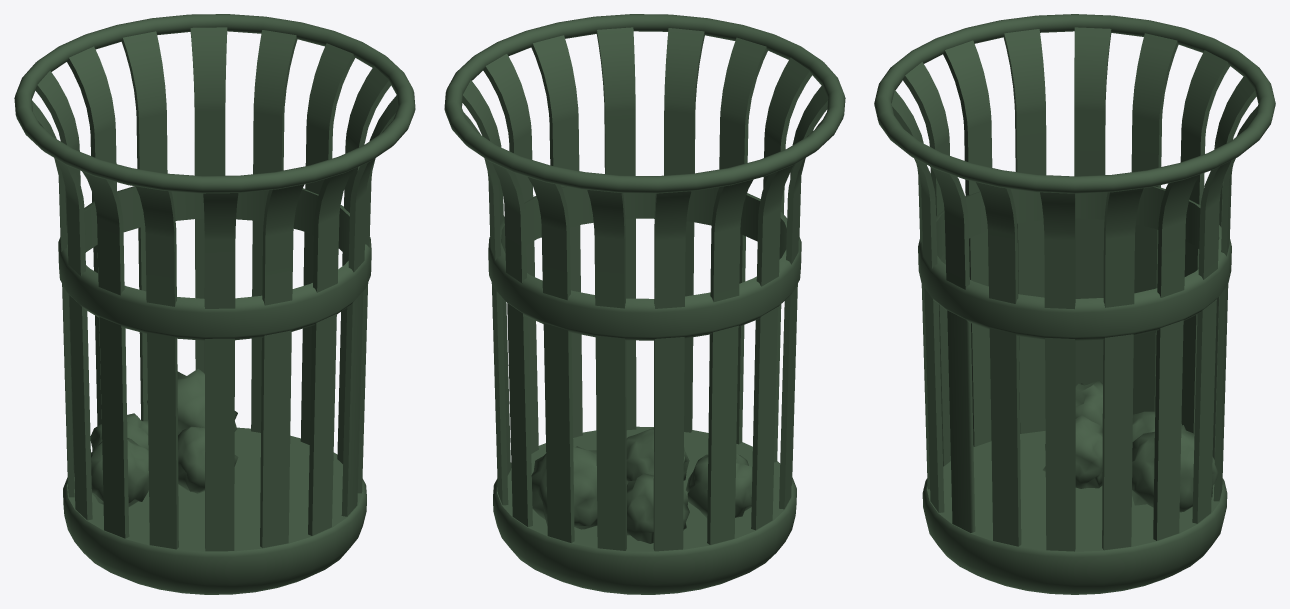
The model's file is rua_trash_bin.glb.
The picture shows the model from 3 angles, left to right: view 1: azimuth 30°, elevation 25°; view 2: azimuth 150°, elevation 25°; view 3: azimuth 270°, elevation 25°; orthographic projection.
Visible parts, largest first — view 1: SM_Trash_Bin; view 2: SM_Trash_Bin; view 3: SM_Trash_Bin.
Part boxes in pixels (x1,y1,x2,y2): SM_Trash_Bin: [14, 14, 415, 594]; SM_Trash_Bin: [444, 14, 845, 594]; SM_Trash_Bin: [874, 14, 1275, 594].
Size of what is drawn, in the model's own units: 0.6618 by 0.8162 by 0.6618.
